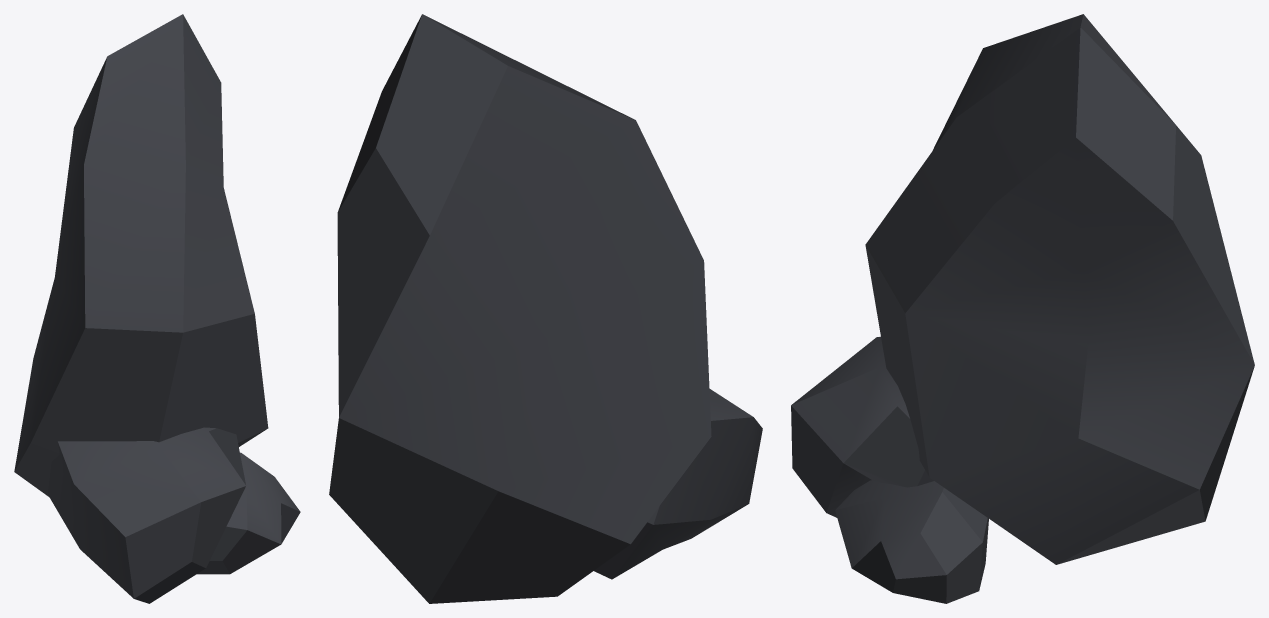
Rendered from Rocha3.fbx.
3 views of the same model, side by side, from view 1: azimuth 30°, elevation 25°; view 2: azimuth 150°, elevation 25°; view 3: azimuth 270°, elevation 25° (orthographic). The views are drawn at different scales.
Parts seen in each view (by area): view 1: rock.003; view 2: rock.003; view 3: rock.003.
Boxes of the visible parts, left/top/right/bottom form: rock.003: left=14, top=14, right=300, bottom=603; rock.003: left=329, top=14, right=762, bottom=603; rock.003: left=791, top=14, right=1254, bottom=603.
Bounding box in the file's own units: 91.21 × 170 × 125.
Materials: 1 (1 with a texture image).
